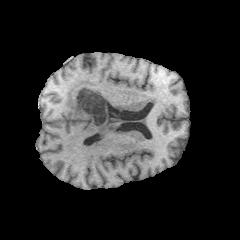glioma: (65, 79, 125, 140)
